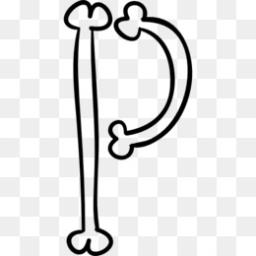p: (56, 0, 202, 256)
